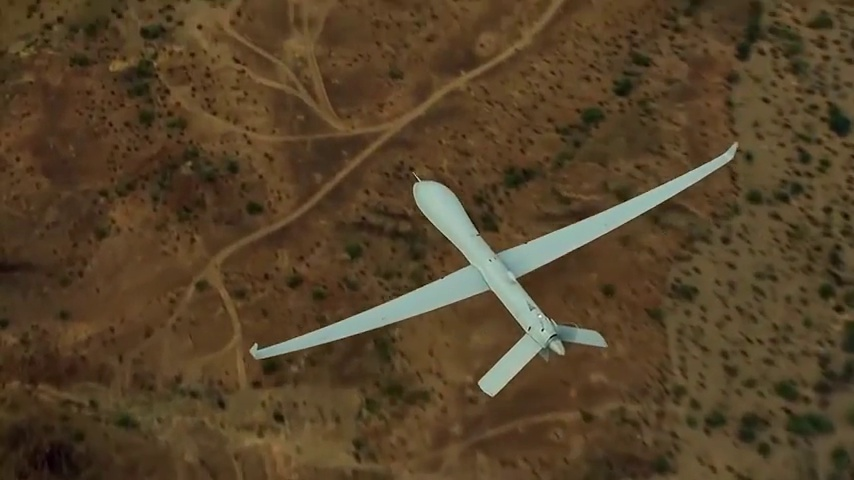military drone: (249, 141, 738, 397)
